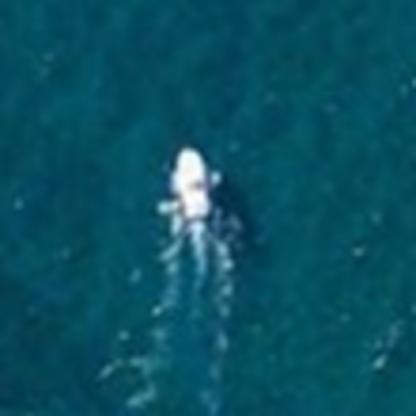ship: (163, 137, 225, 227)
